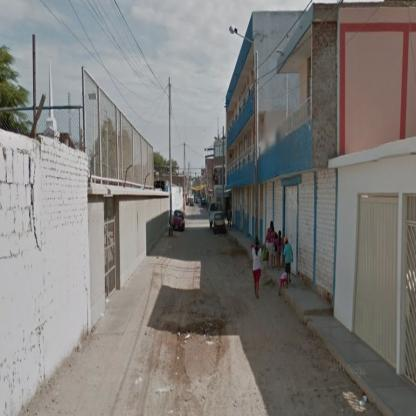Peaton: (251, 238, 266, 299), (284, 237, 295, 284), (266, 221, 275, 271)
Pista: (51, 206, 350, 380)
Vehiculo: (172, 211, 186, 231), (214, 212, 226, 234), (190, 196, 195, 206), (202, 199, 207, 209)
